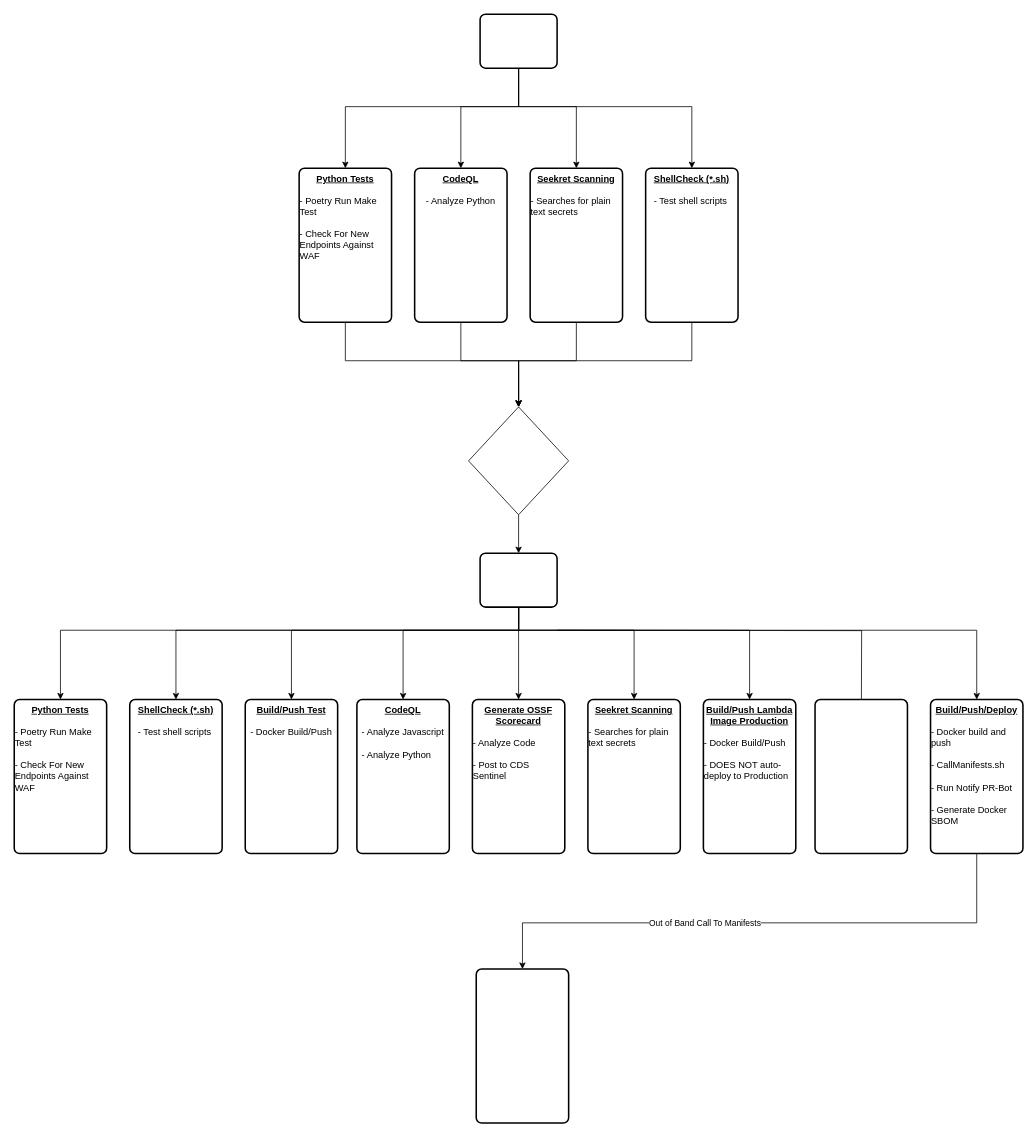
The diagram is 1036 pixels wide and 1137 high, and some of its shapes have lost their labels. Here are the shapes that lost their labels. From the top down, the centre of each, then its label:
At point (518, 41): "Pull Request".
At point (518, 460): "Tests Passed and Approved?".
At point (518, 580): "Merge To Main".
At point (861, 776): "Build/Push Lambd a Image Staging - Docker Build/Push - Deploy Lambda to Staging".
At point (522, 1045): "MANIFESTS - Rollout Admin - Kubectl set image to docker tag".
